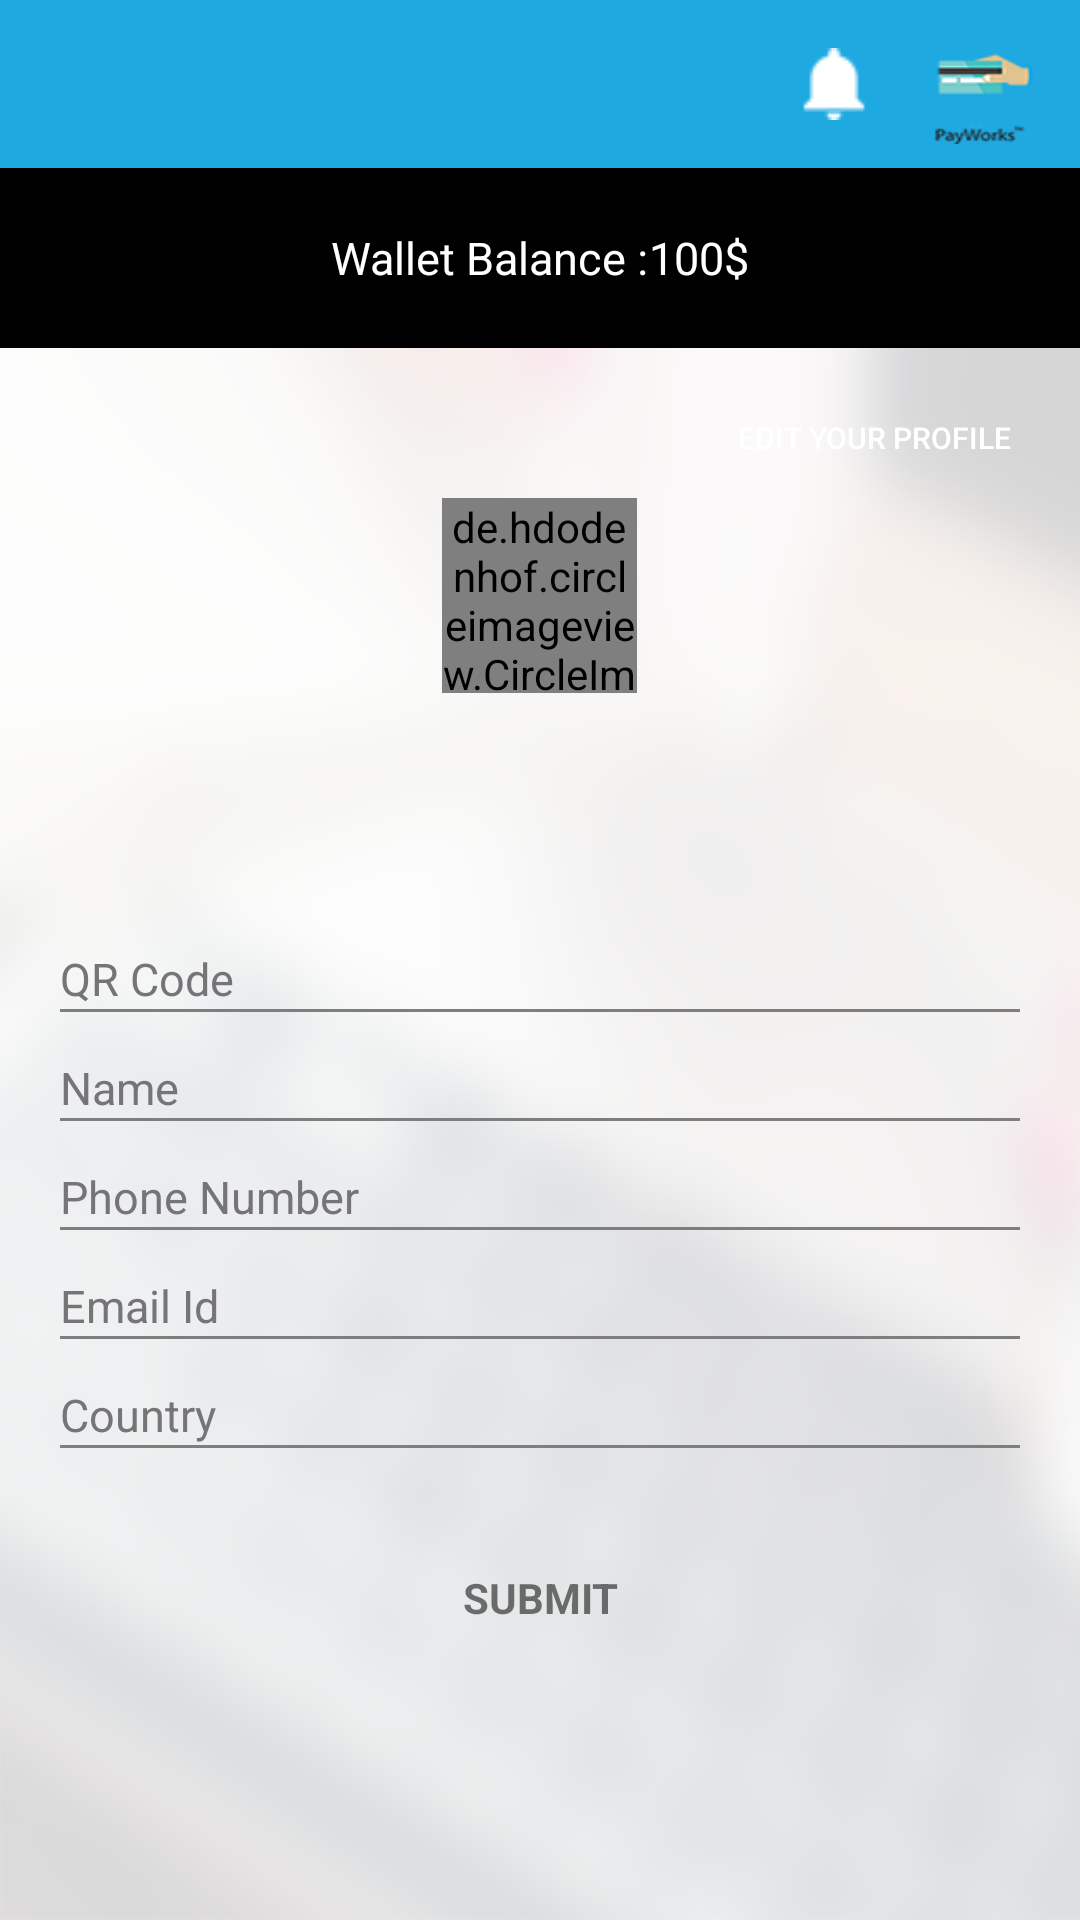

Named icons in this screenshot (1080 x 1920) and their centers, (x,y):
bell: (834,84)
